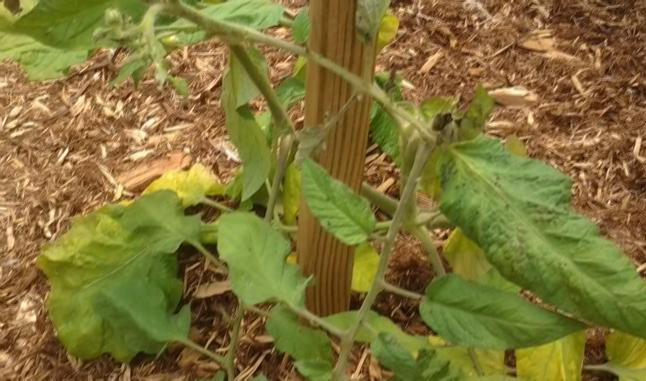Tomato leaf: (435, 133, 646, 338), (220, 190, 318, 325), (0, 0, 83, 80)
